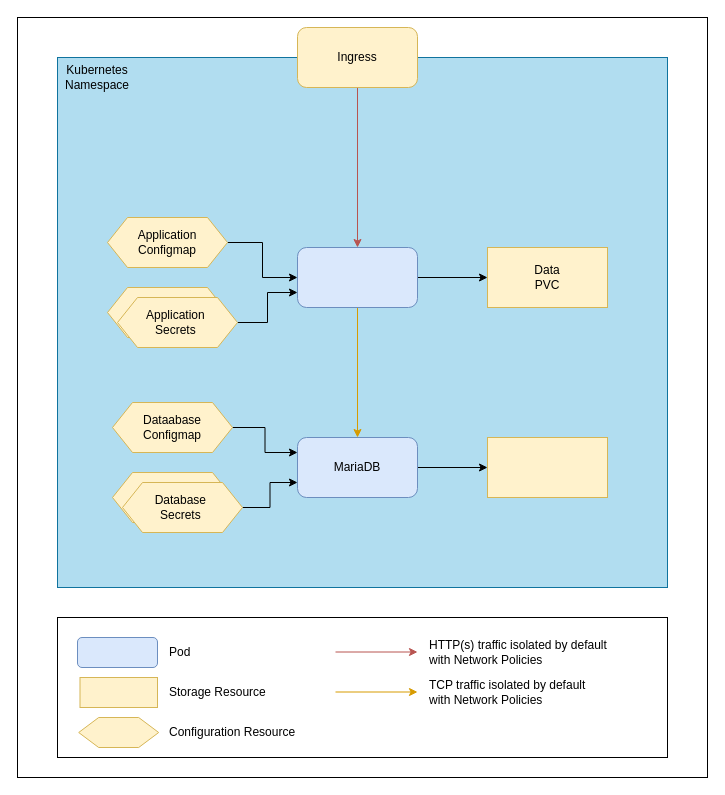
Image size: 725x795. Some labels were removed from this diagram. Each missing label, with the centre of its shape:
"Database PVC" goes at pixel 547 467.
"INCEpTION" goes at pixel 357 277.
